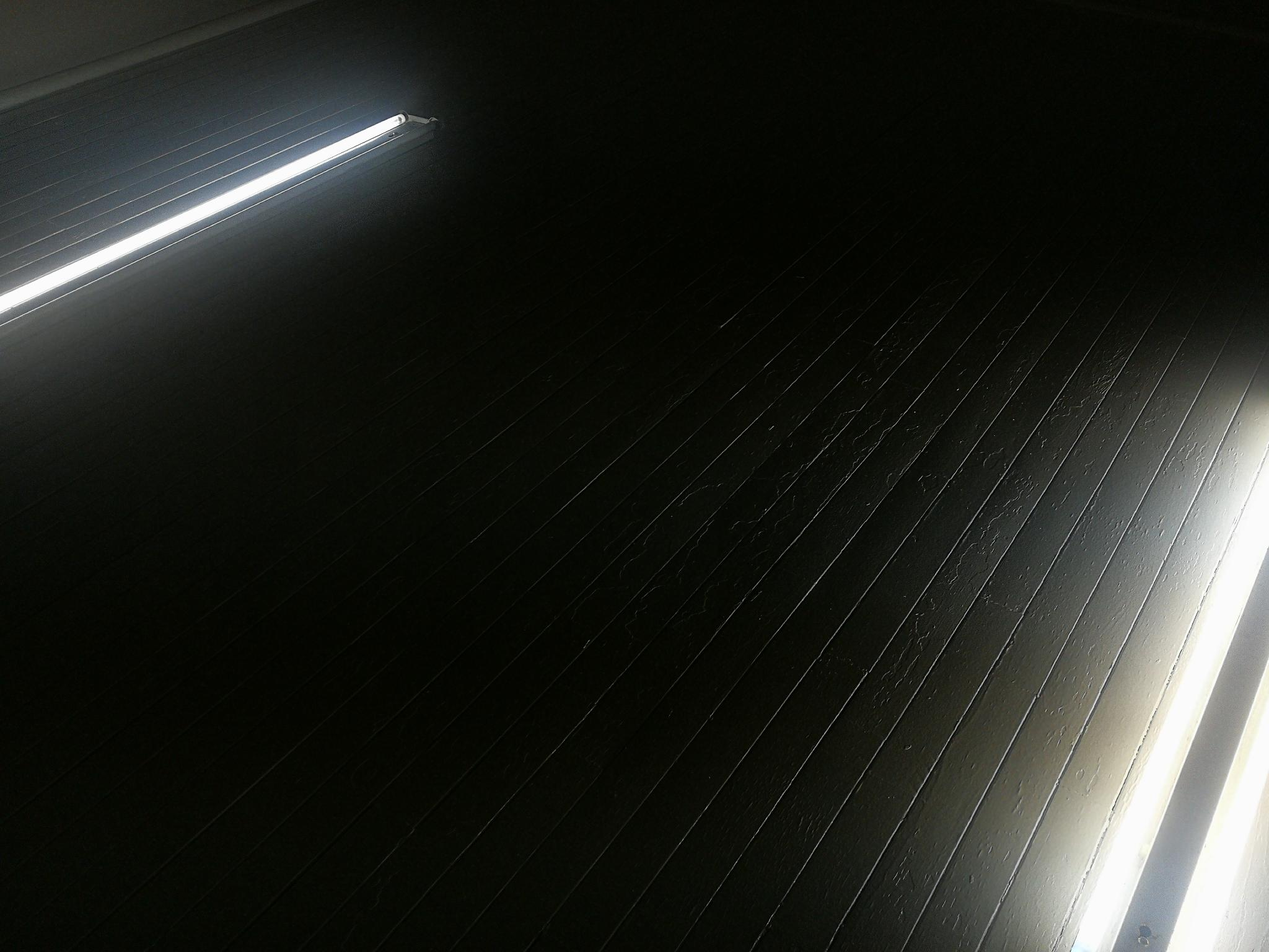light: (0, 107, 437, 319)
